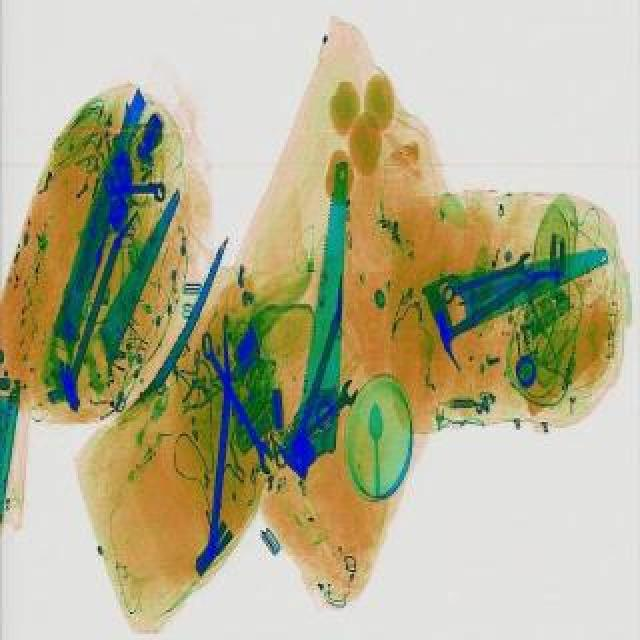scissors: (194, 330, 282, 476), (266, 374, 362, 468), (438, 250, 538, 308), (102, 170, 166, 202)
